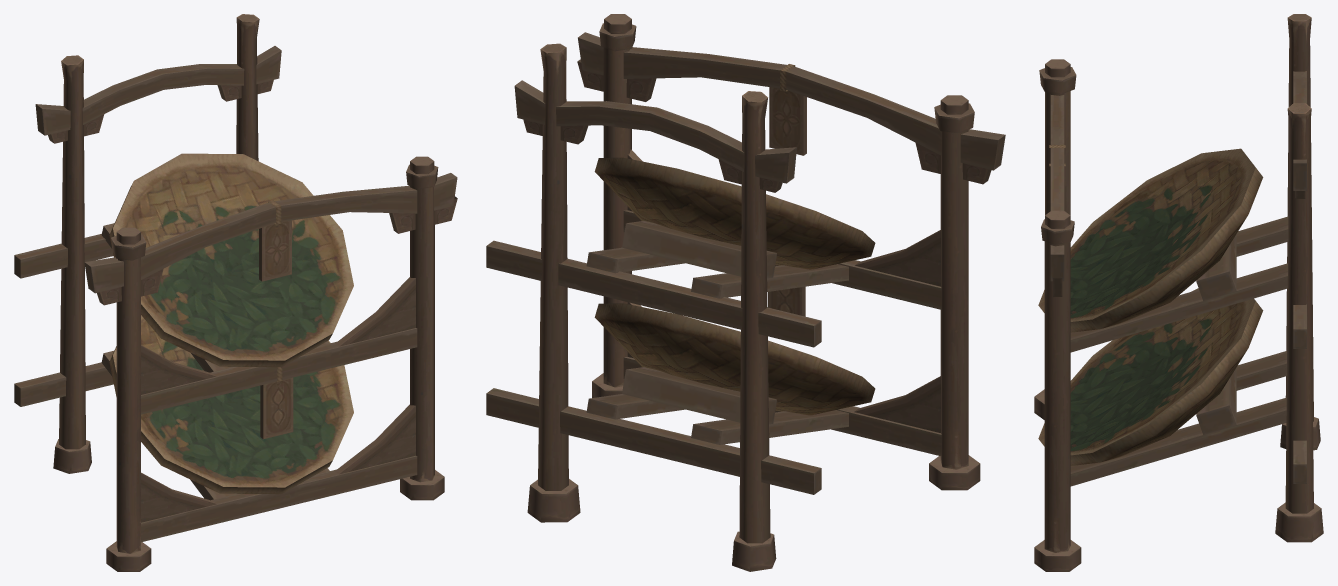
Rendered from Homeworld_Interior_Cyg_Decoration_Prop_Shaicha_02_Lod0.fbx.
The picture shows the model from 3 angles, left to right: view 1: azimuth 30°, elevation 25°; view 2: azimuth 150°, elevation 25°; view 3: azimuth 270°, elevation 25°; orthographic projection. The views are drawn at different scales.
Visible parts, largest first — view 1: Indoor_Cyg_Prop_QYZ_Shaicha_03_Lod0; view 2: Indoor_Cyg_Prop_QYZ_Shaicha_03_Lod0; view 3: Indoor_Cyg_Prop_QYZ_Shaicha_03_Lod0.
Boxes of the visible parts, <box> form: Indoor_Cyg_Prop_QYZ_Shaicha_03_Lod0: <box>14,14,457,571</box>; Indoor_Cyg_Prop_QYZ_Shaicha_03_Lod0: <box>486,14,1005,571</box>; Indoor_Cyg_Prop_QYZ_Shaicha_03_Lod0: <box>1034,14,1323,571</box>.
Size of the model in its own units: 1.84 by 1.94 by 1.19.
